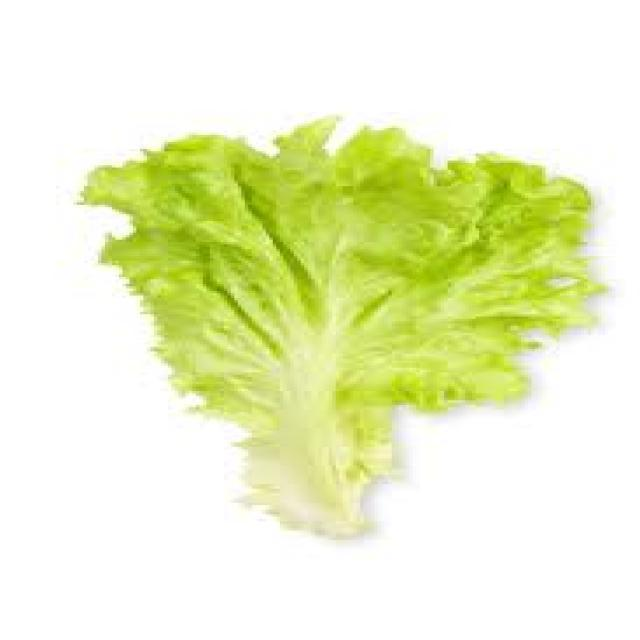Lettuce: (52, 88, 626, 582)
